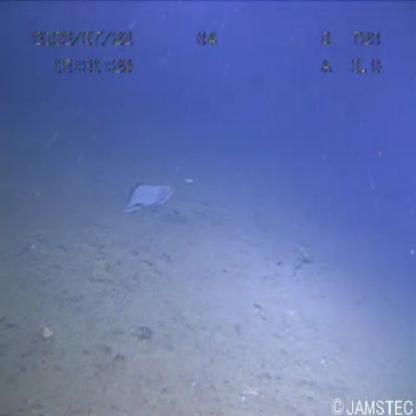Rác: (112, 169, 181, 230)
